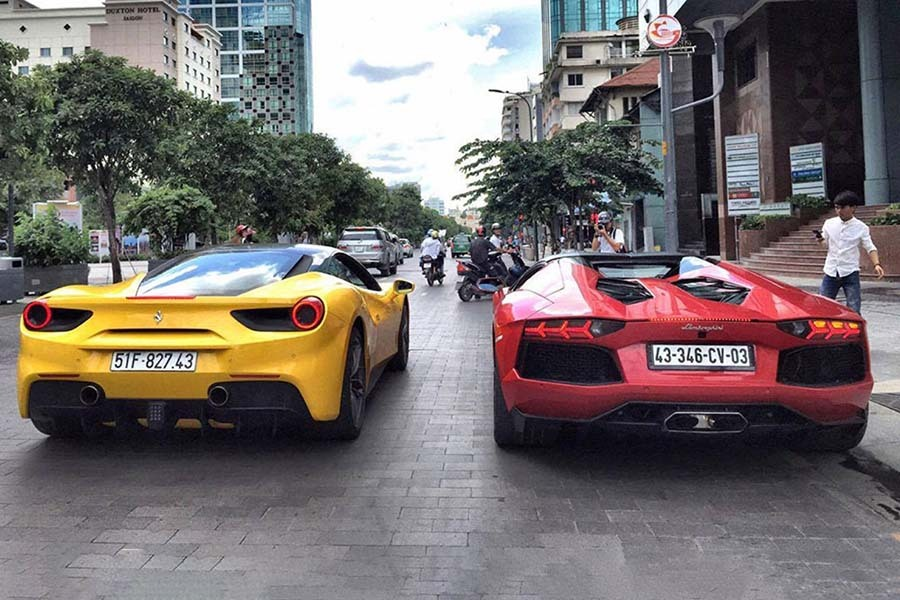number_plate: (113, 346, 196, 374), (651, 344, 751, 366)
